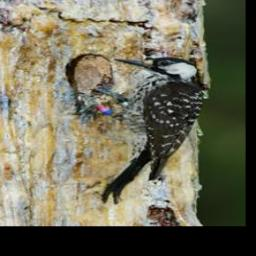Woodpecker: (77, 57, 206, 203)
